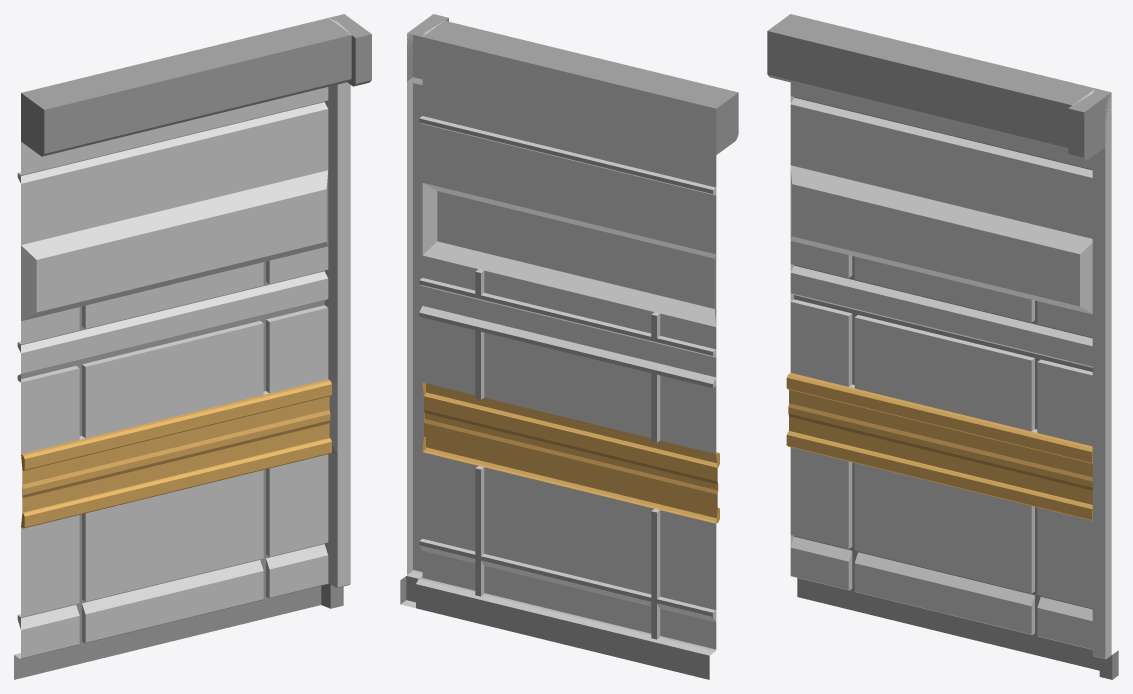
Rendered from SM_Wall_A.fbx.
3 renders of one model, left to right at view 1: azimuth 30°, elevation 25°; view 2: azimuth 150°, elevation 25°; view 3: azimuth 330°, elevation 25°, orthographic. The views are drawn at different scales.
Parts seen in each view (by area): view 1: SM_Wall_A; view 2: SM_Wall_A; view 3: SM_Wall_A.
Boxes of the visible parts, left/top/right/bottom form: SM_Wall_A: left=14, top=14, right=371, bottom=679; SM_Wall_A: left=400, top=14, right=738, bottom=679; SM_Wall_A: left=767, top=14, right=1118, bottom=679.
Size of the model in its own units: 4 by 7 by 0.7412.
